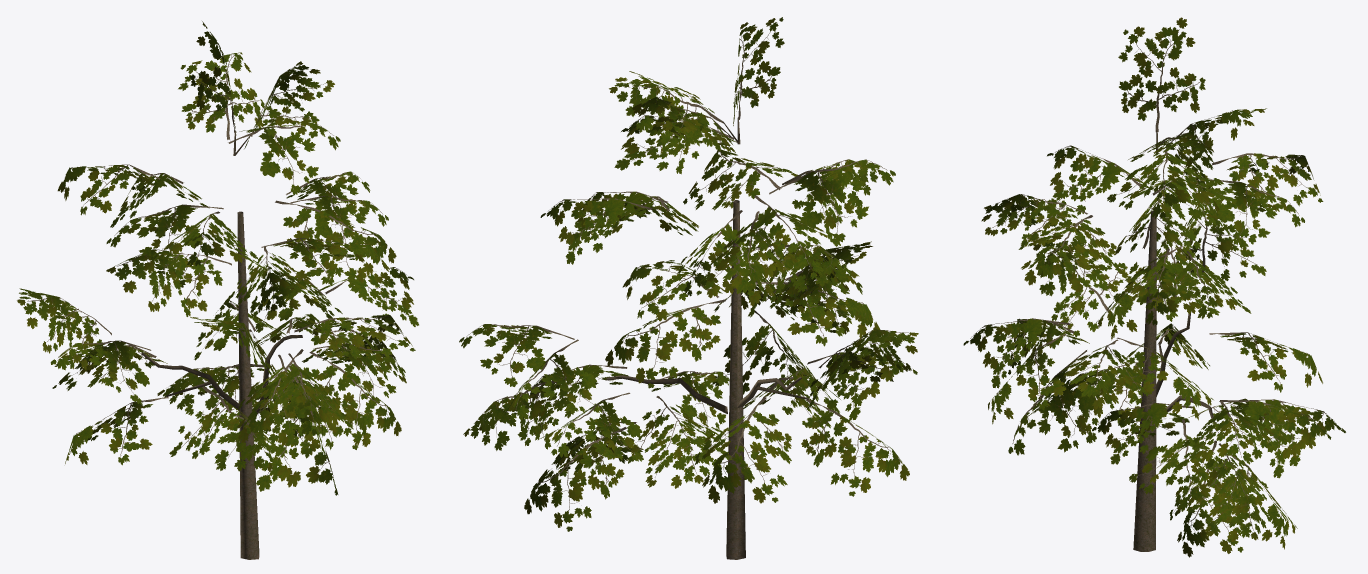
Rendered from nc_tree_14.fbx.
3 views of the same model, side by side, from view 1: azimuth 30°, elevation 25°; view 2: azimuth 150°, elevation 25°; view 3: azimuth 270°, elevation 25° (orthographic). The views are drawn at different scales.
Visible parts, largest first — view 1: nc_tree_14_LOD0; view 2: nc_tree_14_LOD0; view 3: nc_tree_14_LOD0.
Boxes of the visible parts, x1,y1,x2,y2 form: nc_tree_14_LOD0: (17,21,418,559); nc_tree_14_LOD0: (459,17,918,559); nc_tree_14_LOD0: (963,17,1345,557).
Size of what is drawn, in the model's own units: 2.42 by 2.88 by 2.
